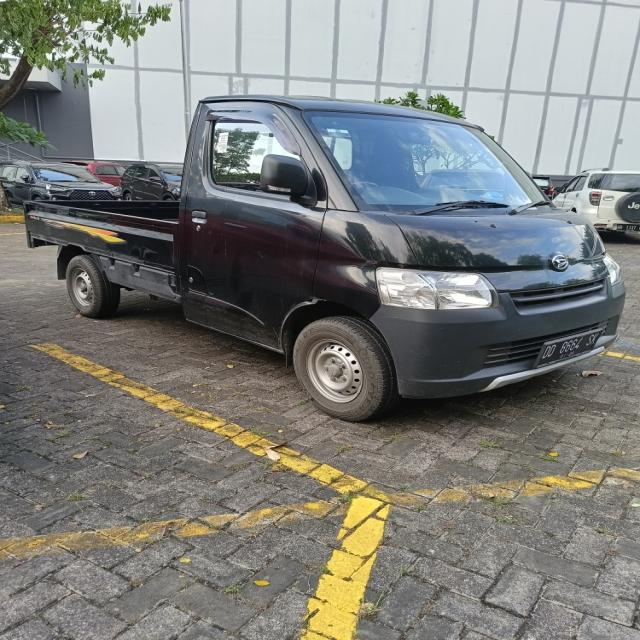plates: (532, 322, 614, 369)
